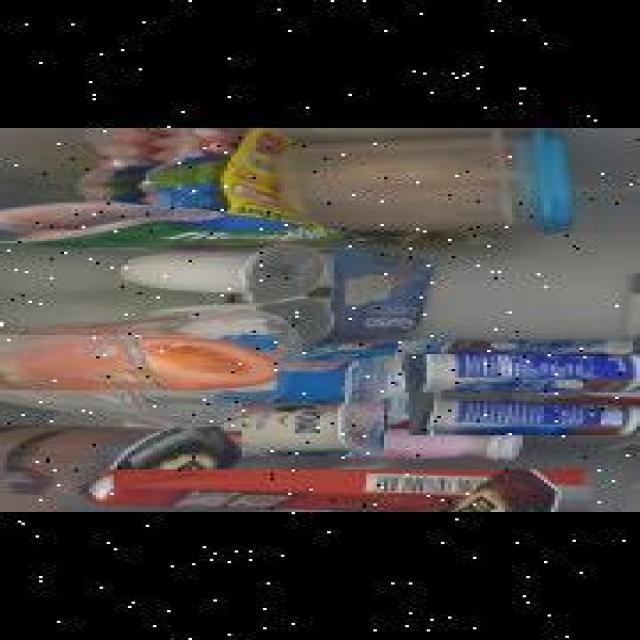sausage: (0, 128, 324, 243)
tomato: (0, 334, 270, 390)
tomato_sauce: (68, 469, 590, 512)
yogurt: (405, 392, 640, 436), (402, 356, 640, 394), (238, 403, 380, 457), (286, 353, 404, 411), (430, 333, 640, 358)
